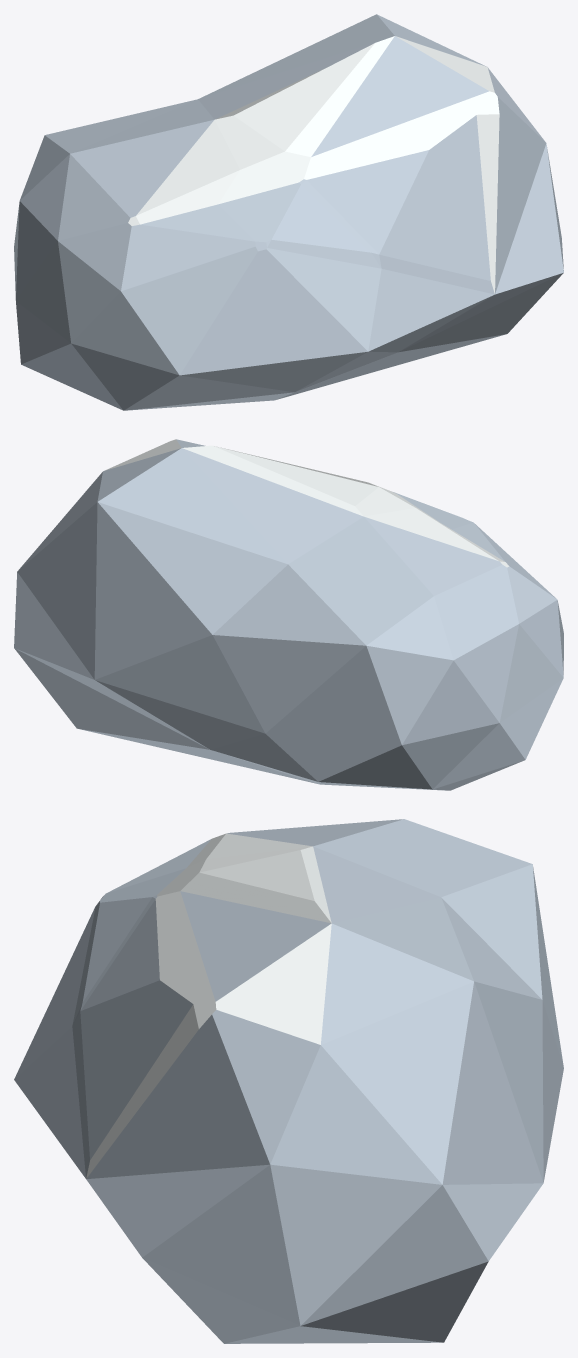
Rendered from rock_1.fbx.
3 views of the same model, one above another, from view 1: azimuth 30°, elevation 25°; view 2: azimuth 150°, elevation 25°; view 3: azimuth 270°, elevation 25° (orthographic). The views are drawn at different scales.
Parts seen in each view (by area): view 1: rock_2; view 2: rock_2; view 3: rock_2.
Part boxes in pixels (x1=…): rock_2: x1=14, y1=14, x2=563, y2=410; rock_2: x1=14, y1=439, x2=563, y2=790; rock_2: x1=14, y1=819, x2=563, y2=1343.
Size of the model in its own units: 294 by 158 by 203.
